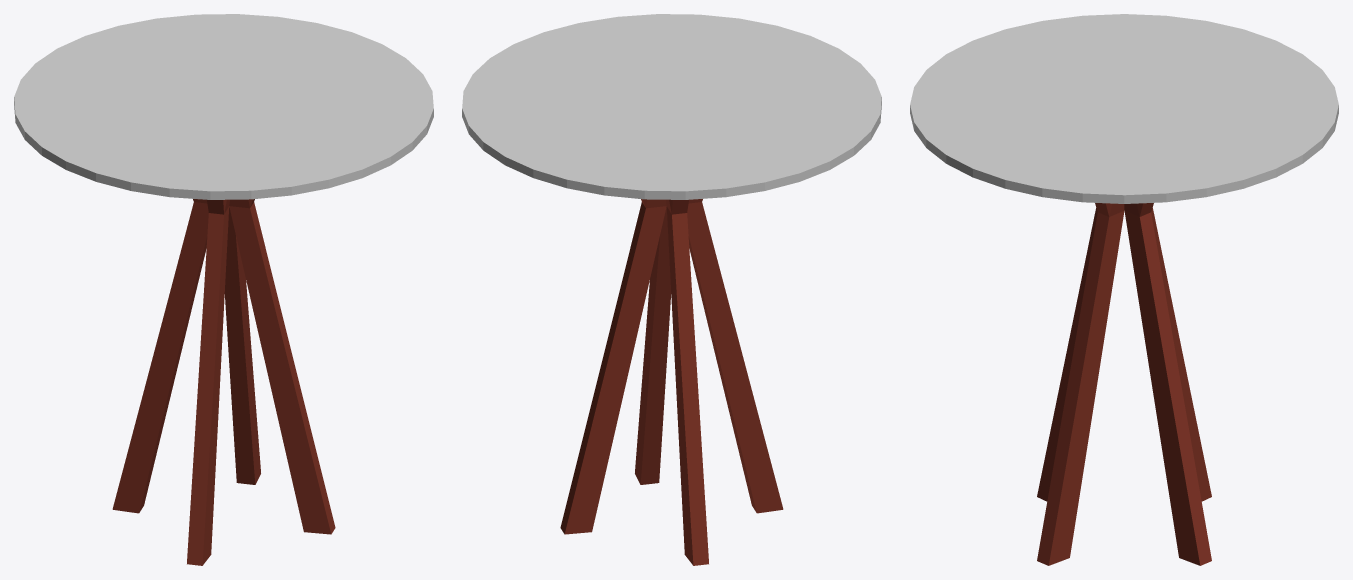
File: TallTable.fbx
3 views of the same model, side by side, from view 1: azimuth 30°, elevation 25°; view 2: azimuth 150°, elevation 25°; view 3: azimuth 270°, elevation 25° (orthographic).
Visible parts, largest first — view 1: Circle; view 2: Circle; view 3: Circle.
Boxes of the visible parts, x1,y1,x2,y2 form: Circle: (14,14,433,565); Circle: (462,14,881,565); Circle: (910,14,1338,565).
Bounding box in the file's own units: 200 × 218 × 200.
